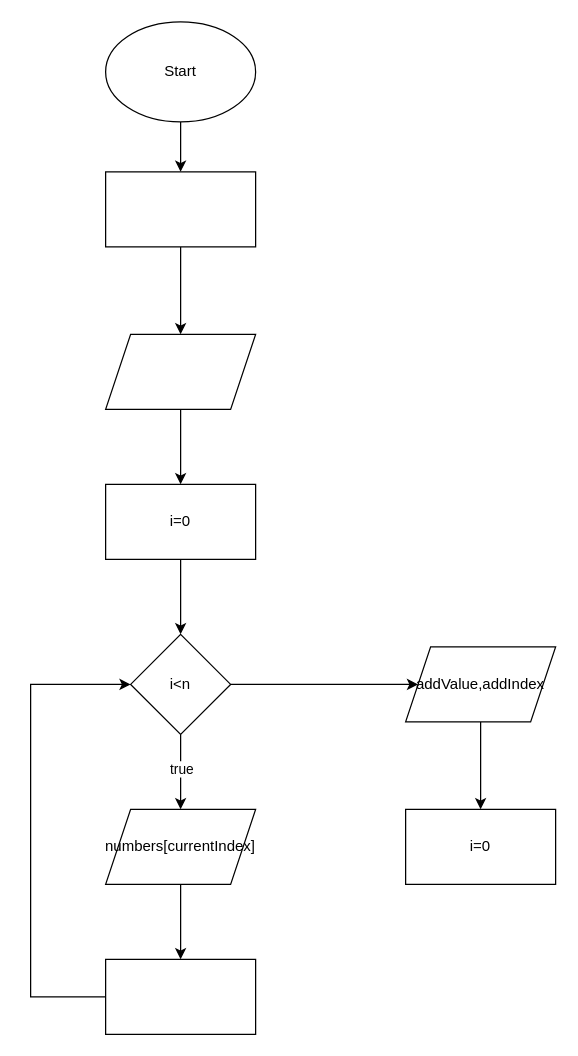
Some shapes in this 578 by 1056 pixel diagram are drawn without their labels. The shapes that lost their labels are listed below. From the top down, each one's centre as x and y in pixels, then its label:
[180,209]: numbers[100], currentIndex
[180,371]: nhap so phan tu muon them la n
[180,996]: i++, curentIndex++
